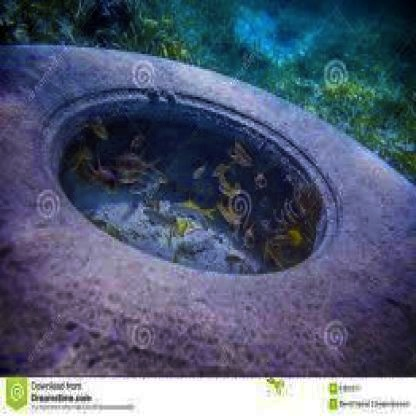tire: (1, 28, 416, 373)
